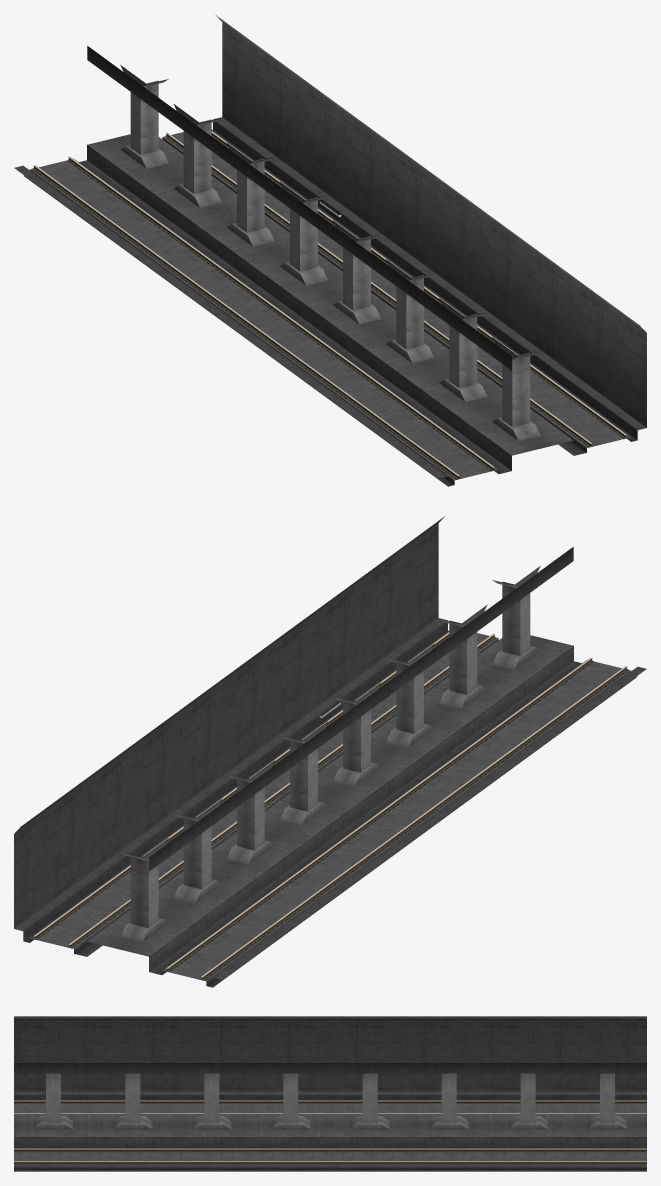
Rendered from KH_RAIL_UNDER00.glb.
3 views of the same model, one above another, from view 1: azimuth 30°, elevation 25°; view 2: azimuth 150°, elevation 25°; view 3: azimuth 270°, elevation 25° (orthographic). The views are drawn at different scales.
Visible parts, largest first — view 1: chika, bone7, bone4, bone0, bone6, bone1, bone2, bone5, bone3; view 2: chika, bone0, bone4, bone7, bone6, bone1, bone5, bone2, bone3; view 3: chika, bone6, bone5, bone4, bone3, bone2, bone1, bone7, bone0.
Boxes of the visible parts, left/top/right/bottom form: chika: left=14, top=15, right=646, bottom=486; bone7: left=492, top=337, right=540, bottom=440; bone4: left=319, top=201, right=380, bottom=324; bone0: left=120, top=65, right=168, bottom=168; bone6: left=439, top=298, right=487, bottom=401; bone1: left=173, top=104, right=221, bottom=207; bone2: left=226, top=142, right=274, bottom=246; bone5: left=386, top=259, right=434, bottom=363; bone3: left=279, top=181, right=327, bottom=285; chika: left=14, top=516, right=646, bottom=987; bone0: left=120, top=838, right=168, bottom=941; bone4: left=319, top=682, right=381, bottom=786; bone7: left=492, top=566, right=540, bottom=669; bone6: left=439, top=605, right=487, bottom=708; bone1: left=173, top=799, right=221, bottom=902; bone5: left=386, top=643, right=434, bottom=747; bone2: left=226, top=760, right=274, bottom=864; bone3: left=280, top=721, right=327, bottom=825; chika: left=14, top=1016, right=646, bottom=1171; bone6: left=113, top=1073, right=152, bottom=1129; bone5: left=192, top=1073, right=231, bottom=1129; bone4: left=271, top=1073, right=310, bottom=1129; bone3: left=350, top=1073, right=389, bottom=1129; bone2: left=429, top=1073, right=468, bottom=1129; bone1: left=508, top=1073, right=547, bottom=1129; bone7: left=34, top=1073, right=73, bottom=1129; bone0: left=587, top=1073, right=626, bottom=1129.
Size of the model in its own units: 28.3 by 14.9 by 100.
13 materials, 11 textured.
